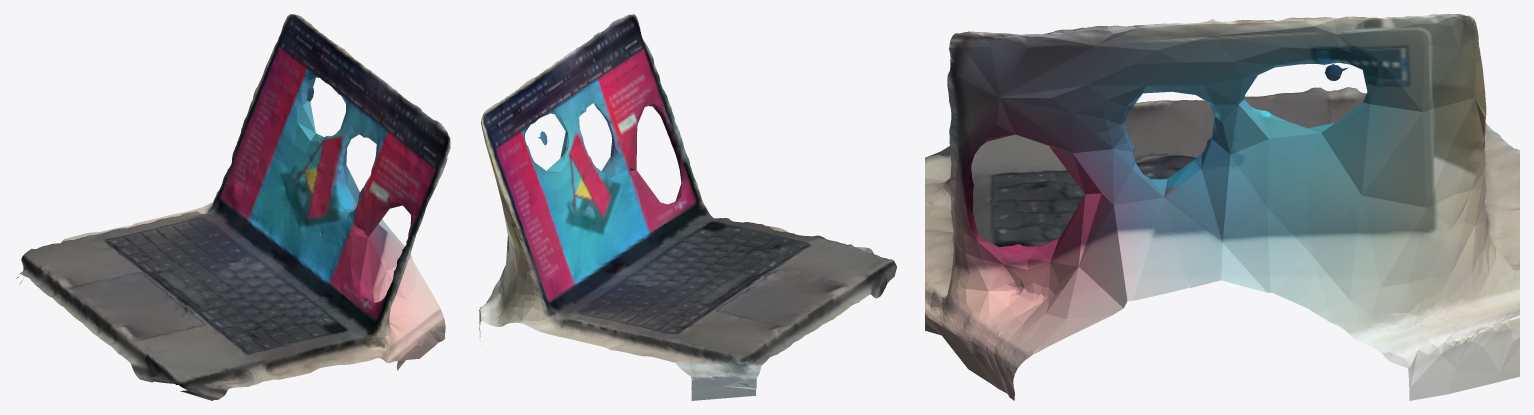
The model's file is Holes.glb.
The picture shows the model from 3 angles, left to right: view 1: azimuth 30°, elevation 25°; view 2: azimuth 150°, elevation 25°; view 3: azimuth 270°, elevation 25°; orthographic projection. The views are drawn at different scales.
Visible parts, largest first — view 1: mesh; view 2: mesh; view 3: mesh.
Part boxes in pixels (x1=…): mesh: x1=16, y1=14, x2=450, y2=400; mesh: x1=479, y1=14, x2=896, y2=400; mesh: x1=925, y1=14, x2=1519, y2=400.
Size of the model in its own units: 0.3539 by 0.265 by 0.3795.
1 material, 1 textured.
